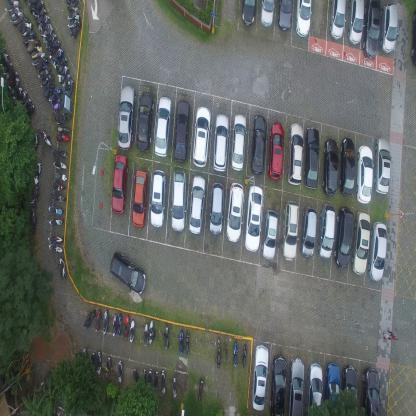car: (108, 250, 147, 294), (349, 209, 372, 276), (332, 206, 354, 270), (116, 82, 136, 150), (367, 219, 388, 283), (244, 185, 263, 253), (251, 343, 269, 412), (361, 0, 382, 59), (153, 94, 172, 158), (317, 202, 337, 261), (286, 121, 304, 186), (249, 114, 268, 175), (226, 180, 244, 244), (172, 97, 190, 161), (135, 92, 154, 152), (192, 105, 210, 168), (110, 152, 128, 215), (211, 112, 230, 171), (287, 356, 306, 415), (267, 119, 285, 181), (281, 199, 299, 261), (188, 173, 206, 235), (269, 353, 287, 415), (374, 135, 392, 195), (338, 135, 356, 195), (321, 137, 339, 197), (303, 124, 319, 190), (355, 144, 372, 205), (130, 167, 147, 228), (150, 168, 167, 228), (362, 366, 382, 415), (300, 204, 318, 258), (379, 2, 398, 53), (230, 111, 246, 171), (306, 359, 323, 415), (341, 364, 359, 416), (209, 179, 225, 236), (324, 359, 340, 415), (347, 0, 365, 48), (262, 208, 278, 260), (328, 0, 347, 40), (294, 0, 312, 36), (276, 0, 292, 30), (259, 0, 274, 28), (240, 0, 256, 26)
